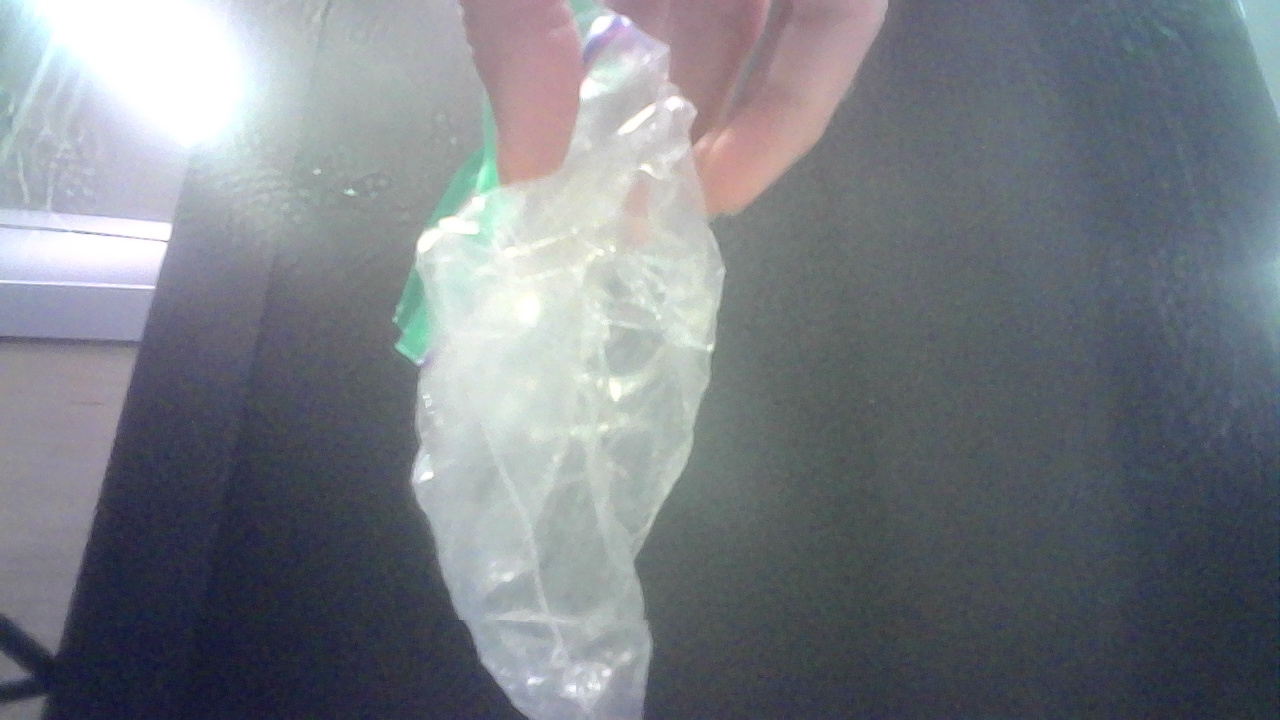Plastic_Recycling: (373, 8, 739, 720)
